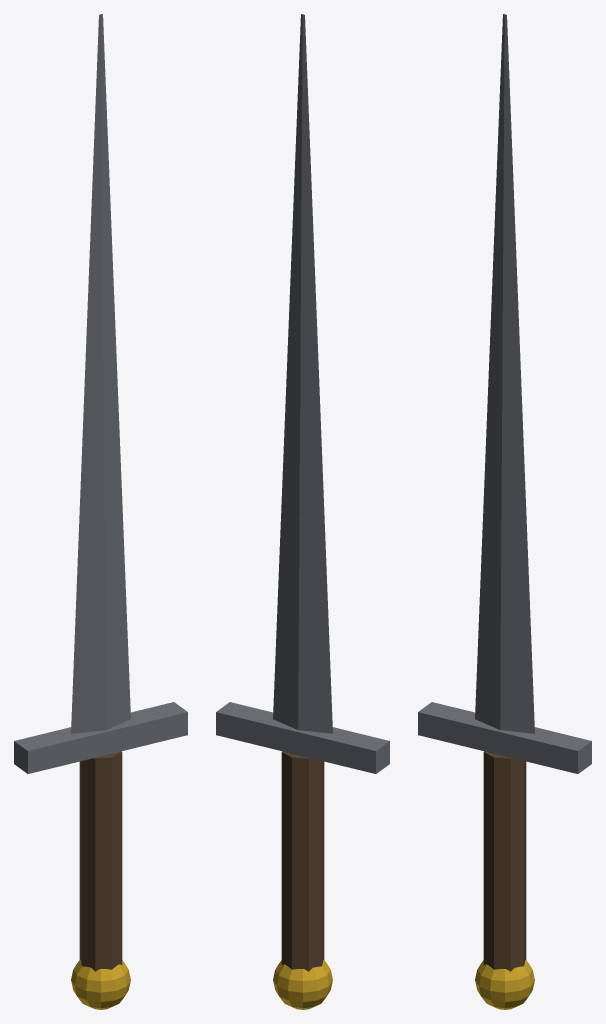
Rendered from Longsword.fbx.
3 renders of one model, left to right at view 1: azimuth 30°, elevation 25°; view 2: azimuth 150°, elevation 25°; view 3: azimuth 330°, elevation 25°, orthographic.
Visible parts, largest first — view 1: Longsword; view 2: Longsword; view 3: Longsword.
Boxes of the visible parts, <box> form: Longsword: <box>14,14,187,1009</box>; Longsword: <box>216,14,389,1009</box>; Longsword: <box>418,14,591,1009</box>.
Bounding box in the file's own units: 16 × 94.8 × 5.2.
Materials: 3 (3 with a texture image).
